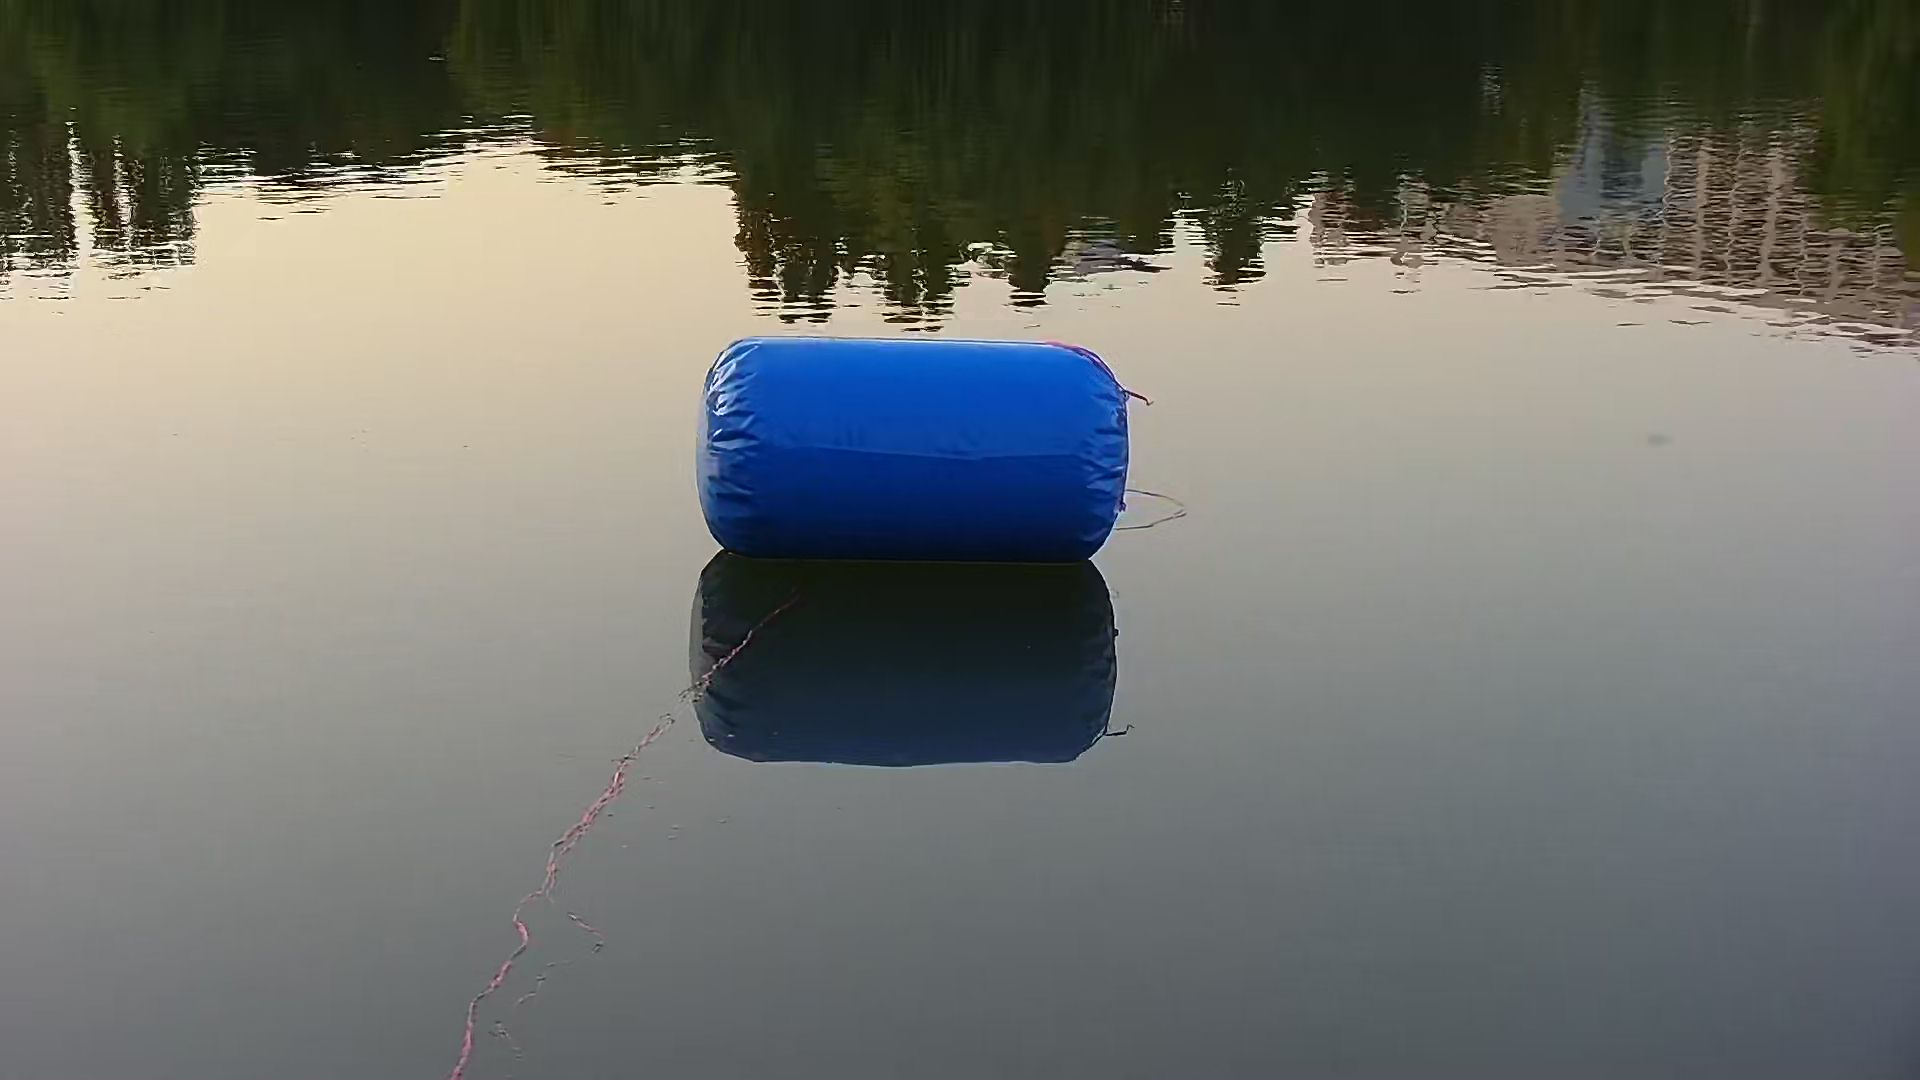rubbish: (687, 328, 1147, 583)
